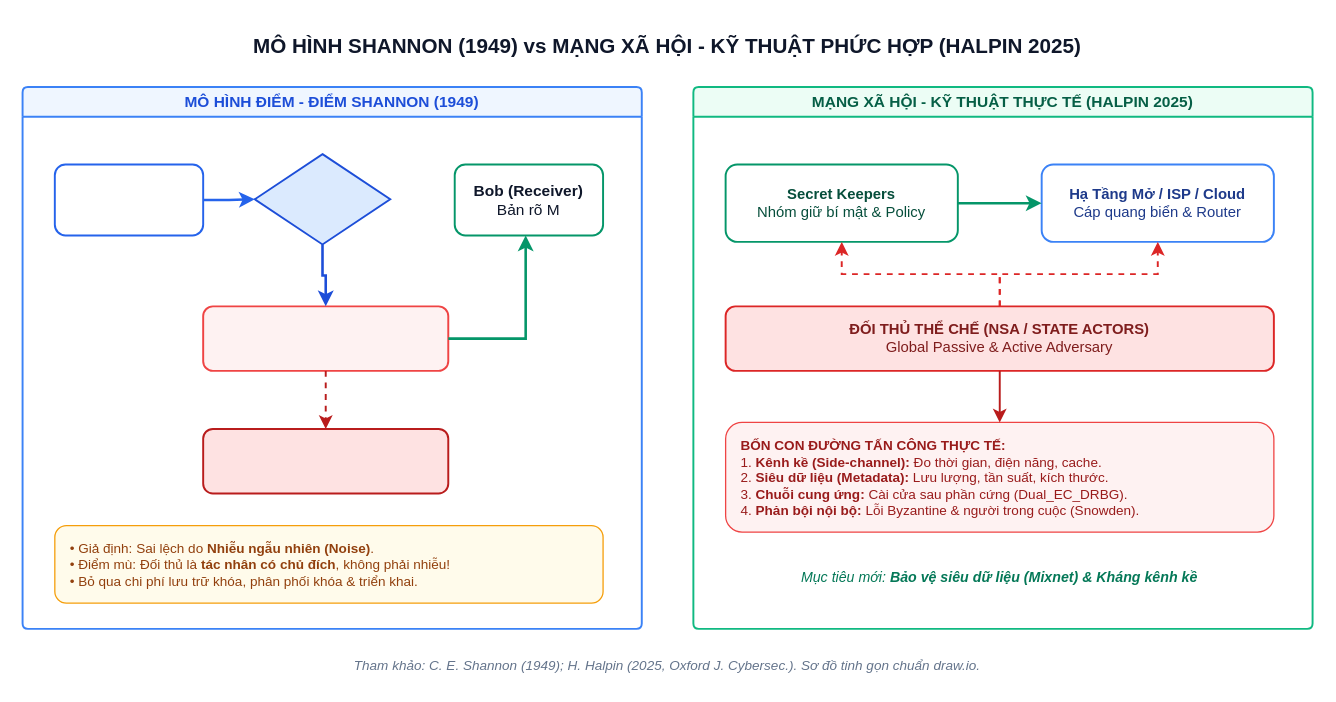
Image size: 1336x702. Some labels were removed from this diagram. Here are the shapes that lost their labels. From the top down, the centre of each, then its label:
At [128,199]: "Alice (Sender) Bản rõ M".
At [322,199]: "Mã hóa Enc Khóa K".
At [325,338]: "KÊNH TRUYỀN Bản mã C = Enc(K, M)".
At [325,460]: "Eve (Passive Eavesdropper) Nghe lén trên đường truyền".
